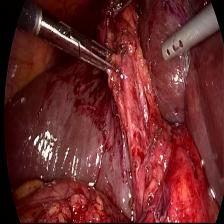Grasper: (79, 33, 121, 84), (110, 0, 132, 24)
Irrigator: (160, 20, 193, 64)
